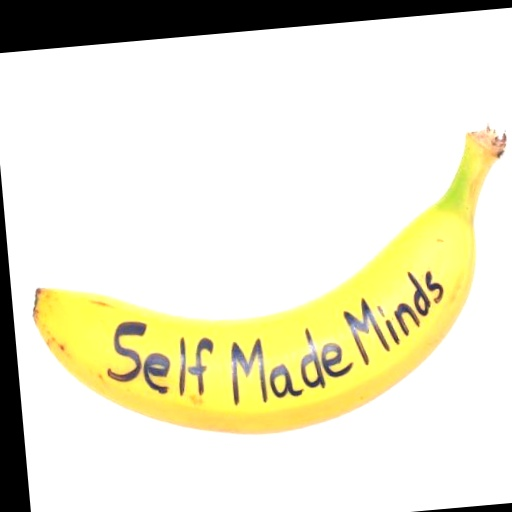fruit: (34, 126, 506, 433)
